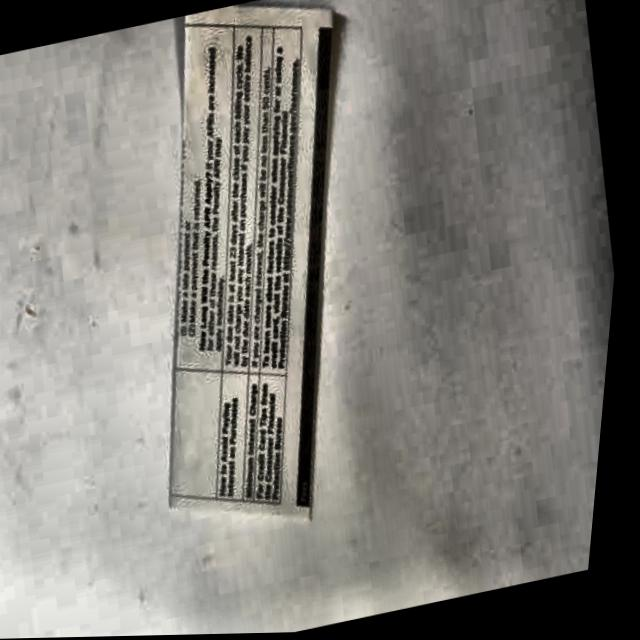Paper: (70, 0, 446, 584)
